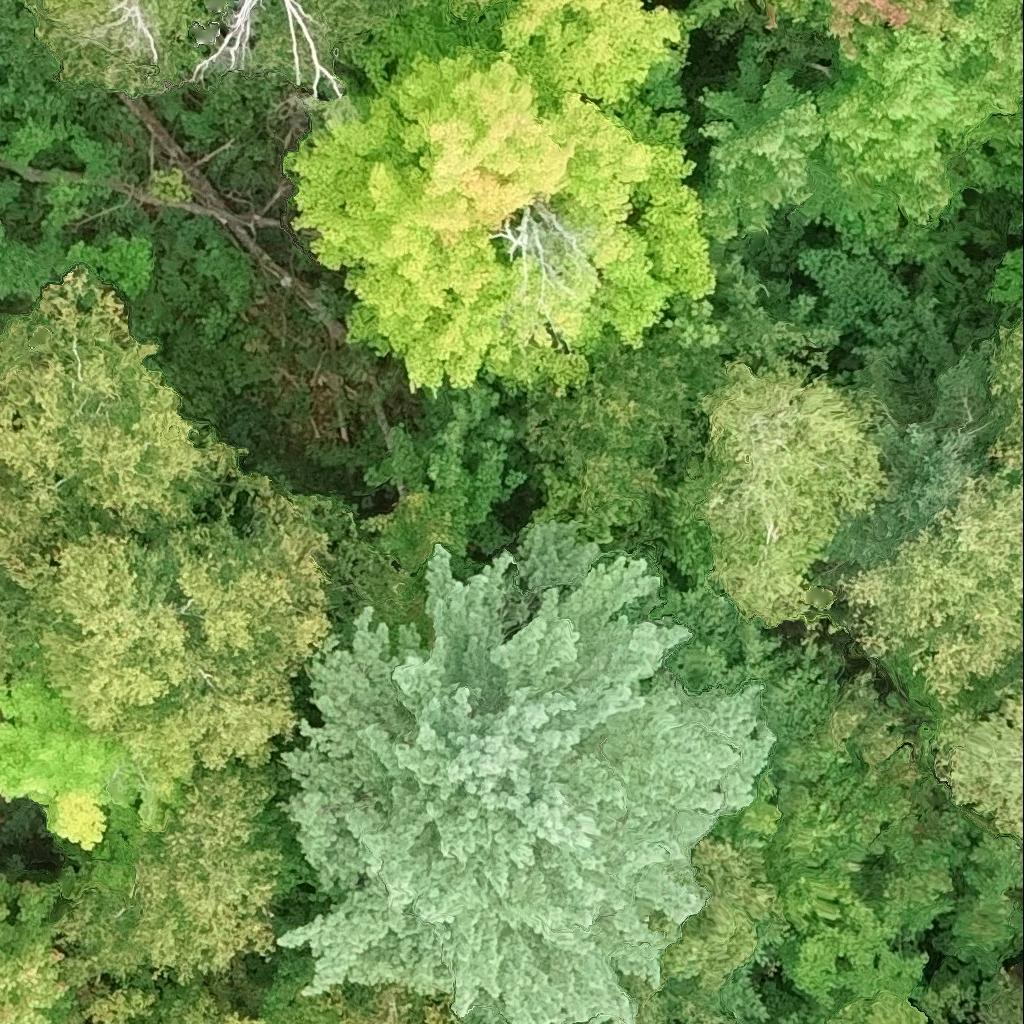crown: (276, 522, 776, 1023), (287, 0, 713, 399), (0, 467, 359, 827), (0, 265, 244, 557), (660, 361, 893, 630), (785, 0, 1023, 262), (714, 690, 919, 934), (55, 761, 279, 983), (835, 474, 1023, 714), (783, 825, 970, 1012), (465, 0, 685, 148), (691, 55, 831, 244), (0, 665, 142, 851), (831, 419, 980, 568), (23, 0, 222, 98), (931, 676, 1023, 844), (665, 839, 770, 984), (669, 0, 909, 54), (0, 880, 85, 1023), (412, 372, 518, 474), (975, 312, 1023, 483), (499, 204, 583, 282), (91, 989, 261, 1023), (342, 986, 456, 1023), (833, 994, 926, 1023), (988, 257, 1023, 316), (641, 1023, 644, 1023)
